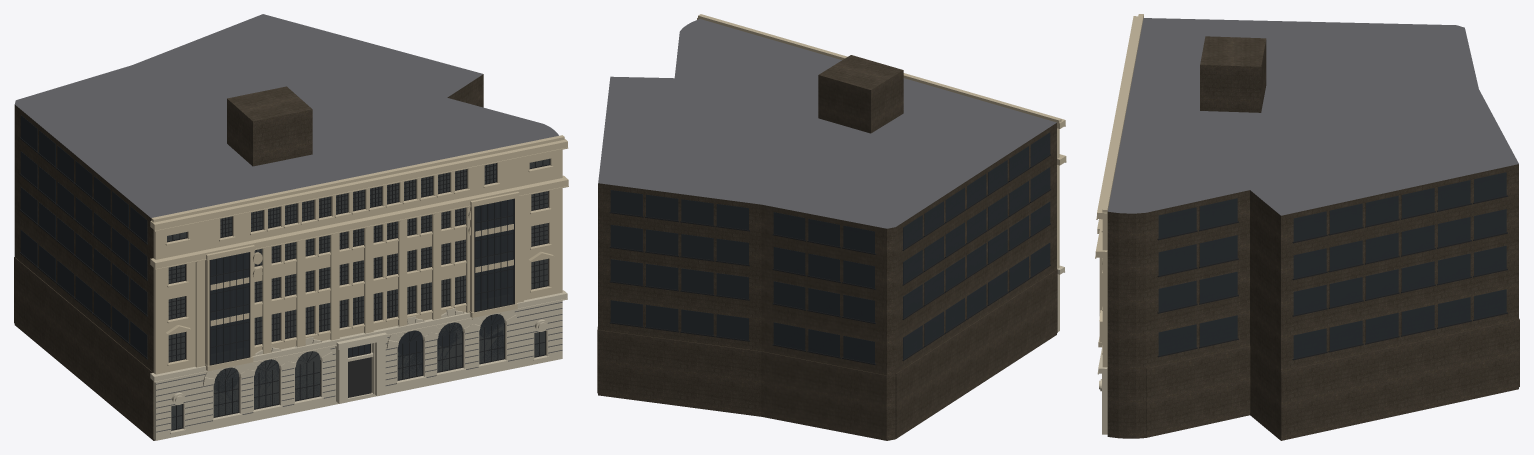
Rendered from hero_m.glb.
3 renders of one model, left to right at view 1: azimuth 30°, elevation 25°; view 2: azimuth 150°, elevation 25°; view 3: azimuth 270°, elevation 25°, orthographic. The views are drawn at different scales.
Parts seen in each view (by area): view 1: HERO_body, HERO_cornice.001, HERO_glass, HERO_cartouche, HERO_fan_bar, HERO_rustication_groove, HERO_door_left; view 2: HERO_body, HERO_glass, HERO_fan_bar, HERO_cornice.001; view 3: HERO_body, HERO_glass, HERO_cornice.001, HERO_fan_bar, HERO_cartouche.
Part boxes in pixels (x1,y1,x2,y2): HERO_body: (14, 14, 558, 440); HERO_cornice.001: (150, 135, 568, 374); HERO_glass: (20, 115, 549, 429); HERO_cartouche: (150, 290, 567, 440); HERO_fan_bar: (19, 137, 550, 430); HERO_rustication_groove: (156, 302, 562, 432); HERO_door_left: (348, 357, 371, 397); HERO_body: (597, 19, 1057, 440); HERO_glass: (610, 132, 1050, 363); HERO_fan_bar: (609, 154, 1050, 365); HERO_cornice.001: (697, 14, 1066, 268); HERO_body: (1107, 18, 1519, 440); HERO_glass: (1158, 172, 1506, 358); HERO_cornice.001: (1095, 14, 1143, 367); HERO_fan_bar: (1157, 195, 1507, 360); HERO_cartouche: (1097, 345, 1107, 434).
Size of the model in its own units: 38.64 by 24.43 by 34.67.
8 materials, 1 textured.
